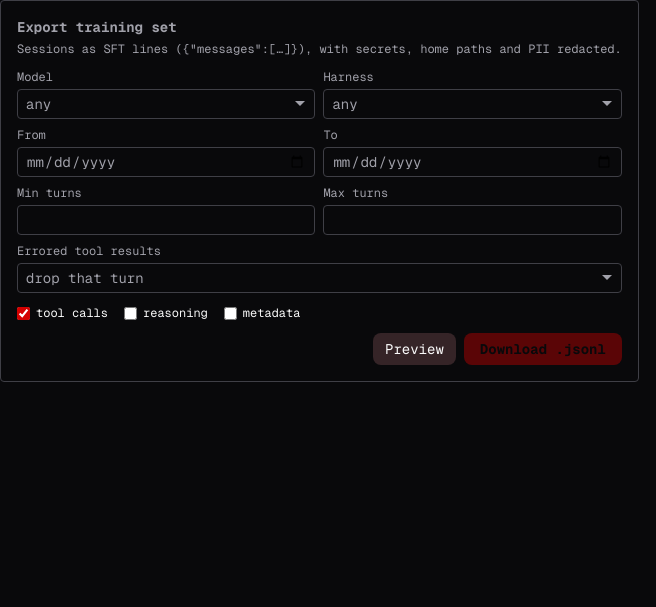
TrainingExport › previews counts and redactions, then offers the download for those filters
The width and height of the screenshot is (656, 607).
Click the button "Preview": (414, 349) [373,333,456,365]
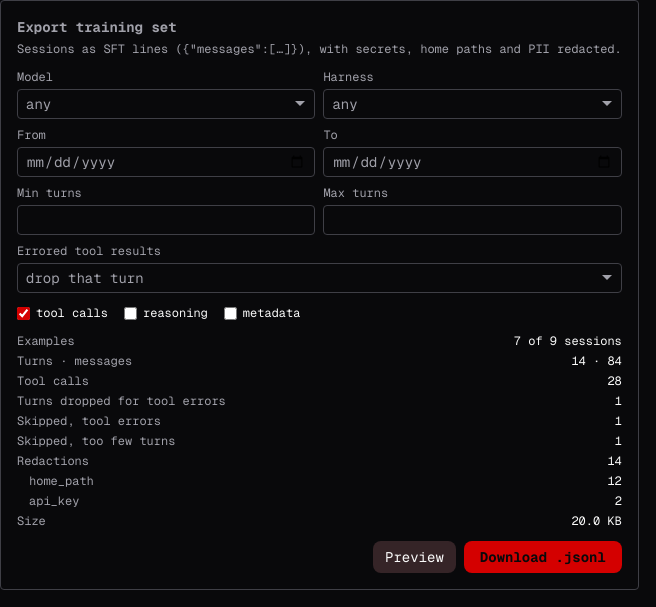
Now the element with test id "training-preview" shows "7 of 9 sessions", box [17,333,622,529]
Now the element with test id "training-preview" shows "20.0 KB", box [571,513,622,529]
A changed filter is a different file: the preview no longer describes it.
Click the checkbox labelled "reasoning": (130, 313) [124,306,137,320]
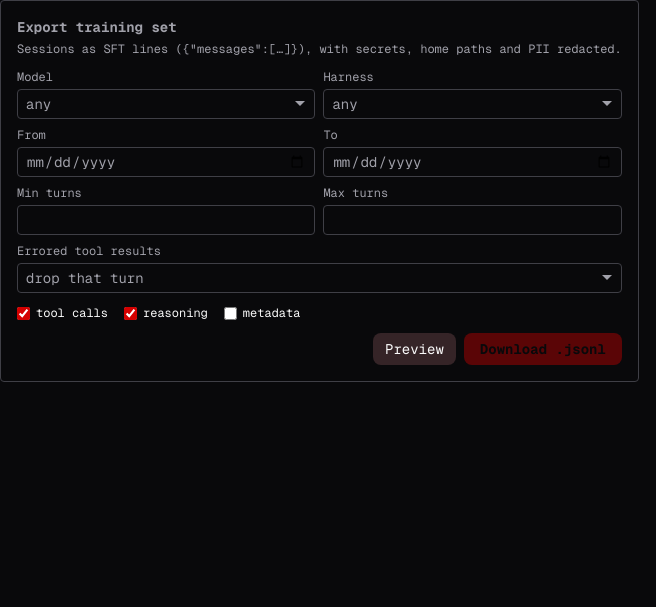
Now the element with test id "training-preview" is gone
